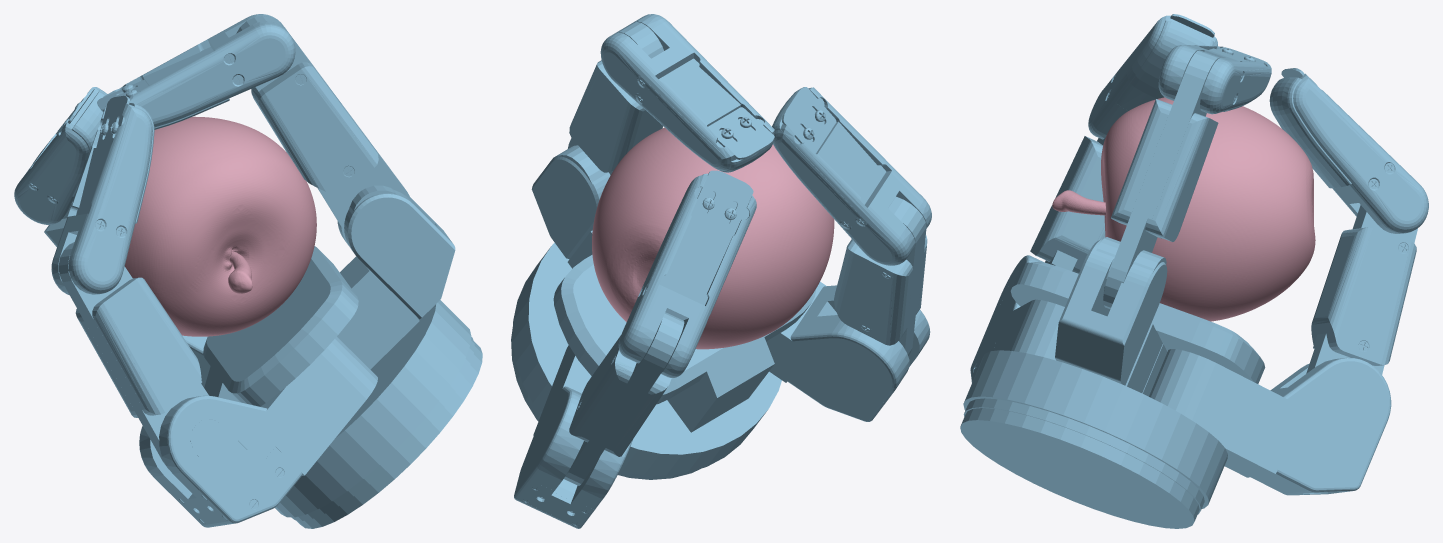
3 views of the same model, side by side, from view 1: azimuth 30°, elevation 25°; view 2: azimuth 150°, elevation 25°; view 3: azimuth 270°, elevation 25° (orthographic). The views are drawn at different scales.
Parts seen in each view (by area): view 1: world; view 2: world; view 3: world.
Part boxes in pixels (x1,y1,x2,y2): world: (14,14,482,528); world: (511,14,931,528); world: (960,14,1428,528).
Size of the model in its own units: 0.1524 by 0.1741 by 0.1573.
